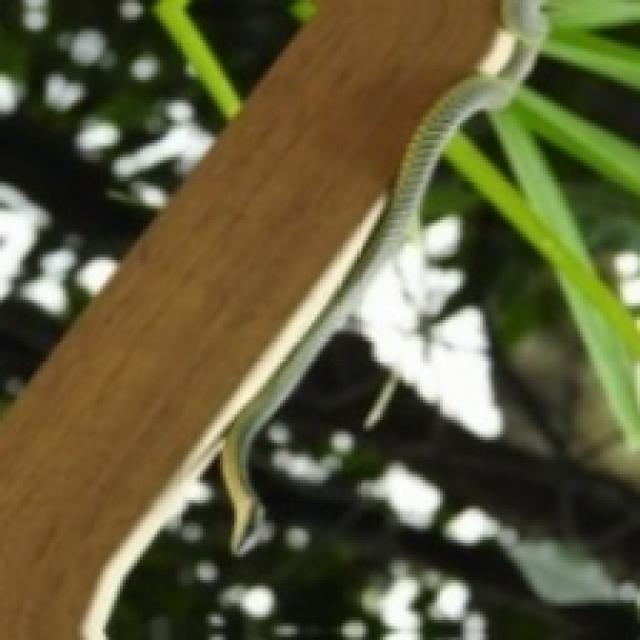paradise tree snake: (0, 0, 540, 637)
